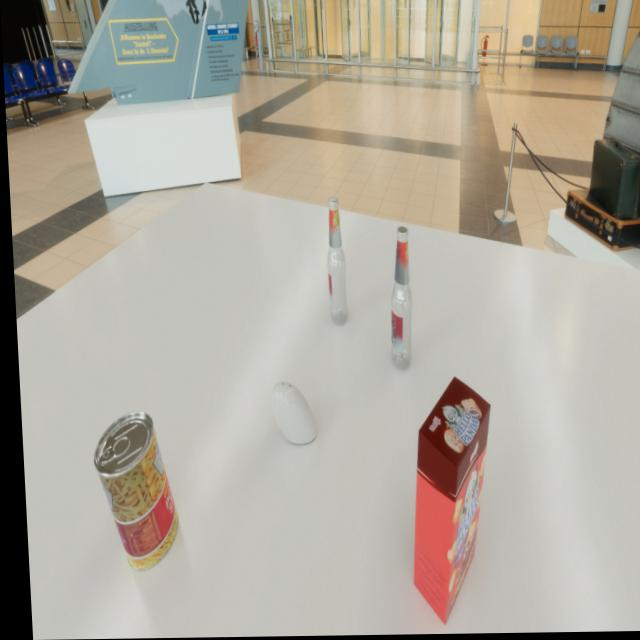Bottle: (381, 228, 413, 371), (321, 198, 346, 326)
HelloPanda: (399, 378, 495, 627)
Potato_sticks: (87, 411, 175, 572)
Salt: (267, 382, 313, 445)
